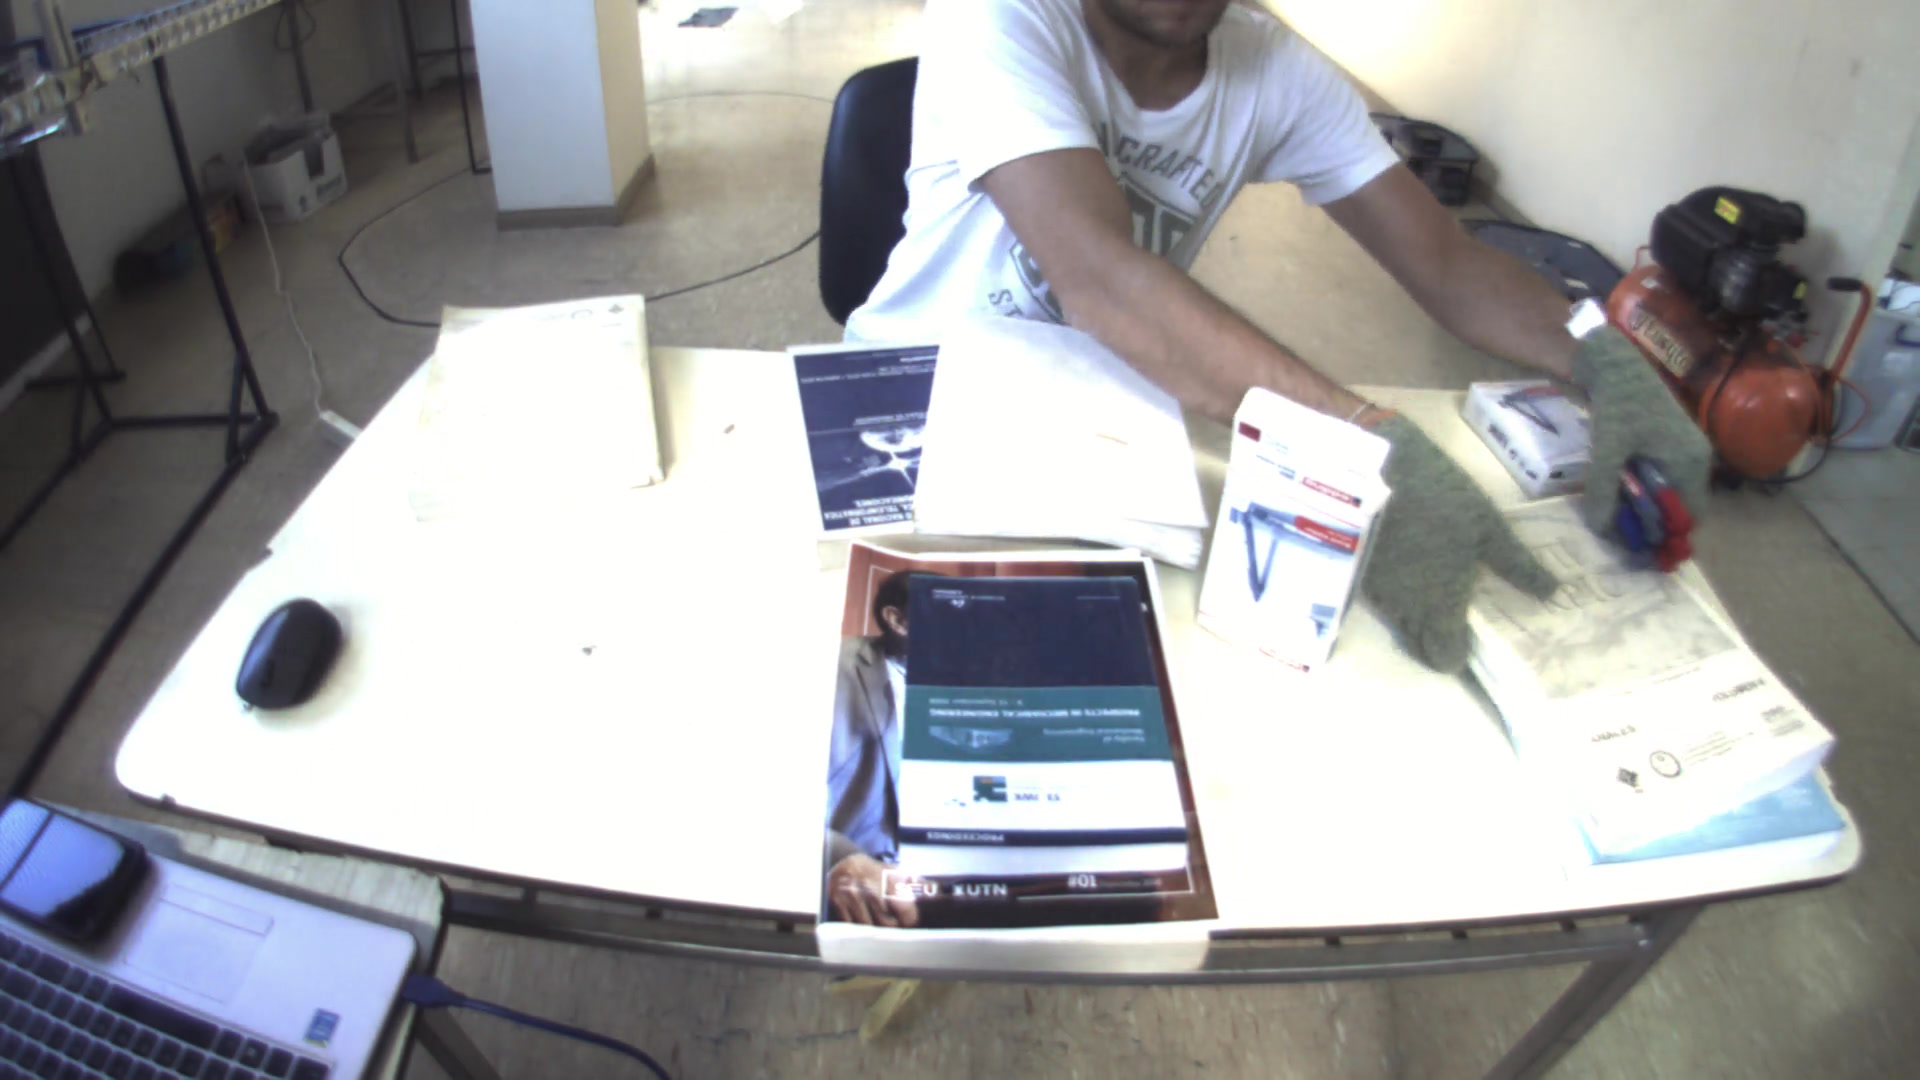hand: (1360, 404, 1555, 687), (1567, 324, 1718, 563)
